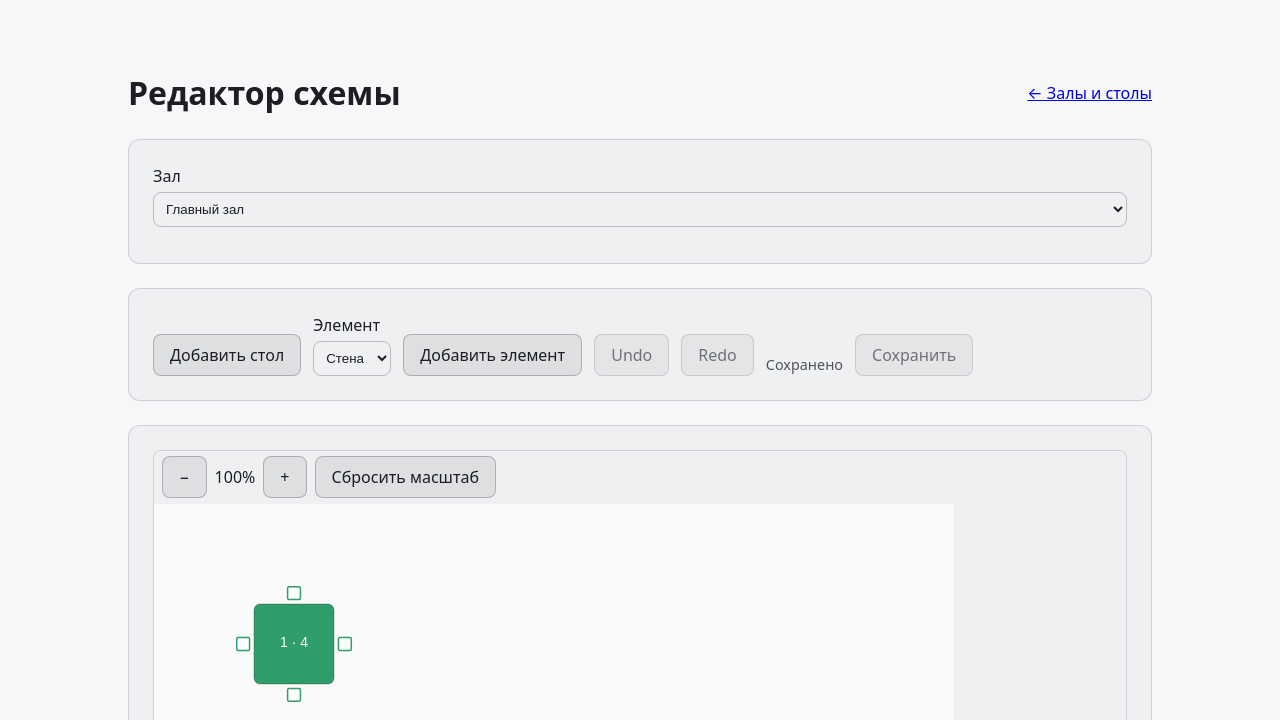
Test: HallEditorPage › supports undo/redo and clears redo after a new change
Expected: the text "Сохранено" is shown, [766,354,843,376]
Expected: the button with aria-label "Отменить" is disabled, [594,334,669,376]
What coordinates should you click on to do the following:
click the button "Добавить стол"
I would click on:
 (227, 355)
Its box is [153,334,301,376].
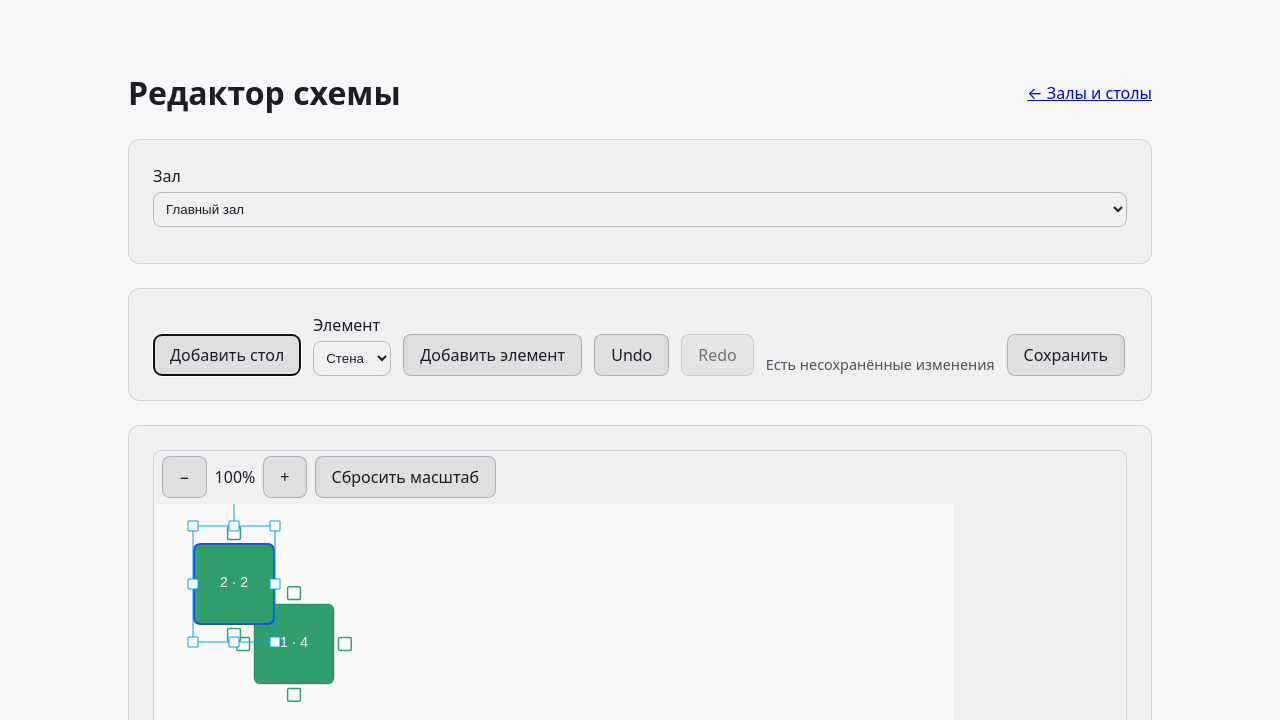
Expected: the button with aria-label "Отменить" is enabled
What coordinates should you click on to do the following:
click the button with aria-label "Отменить"
I would click on:
 (632, 355)
Its box is [594,334,669,376].
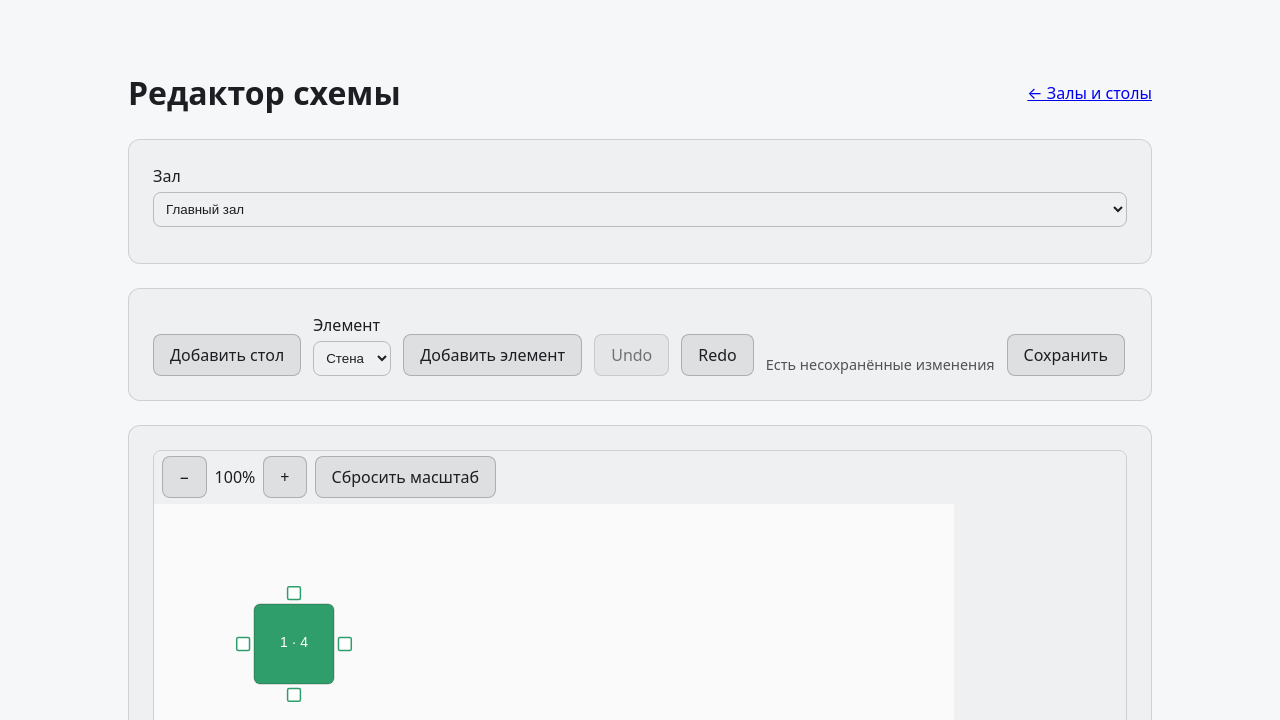
Expected: the button with aria-label "Повторить" is enabled
What coordinates should you click on to do the following:
click the button with aria-label "Повторить"
I would click on:
 (718, 355)
Its box is [681,334,754,376].
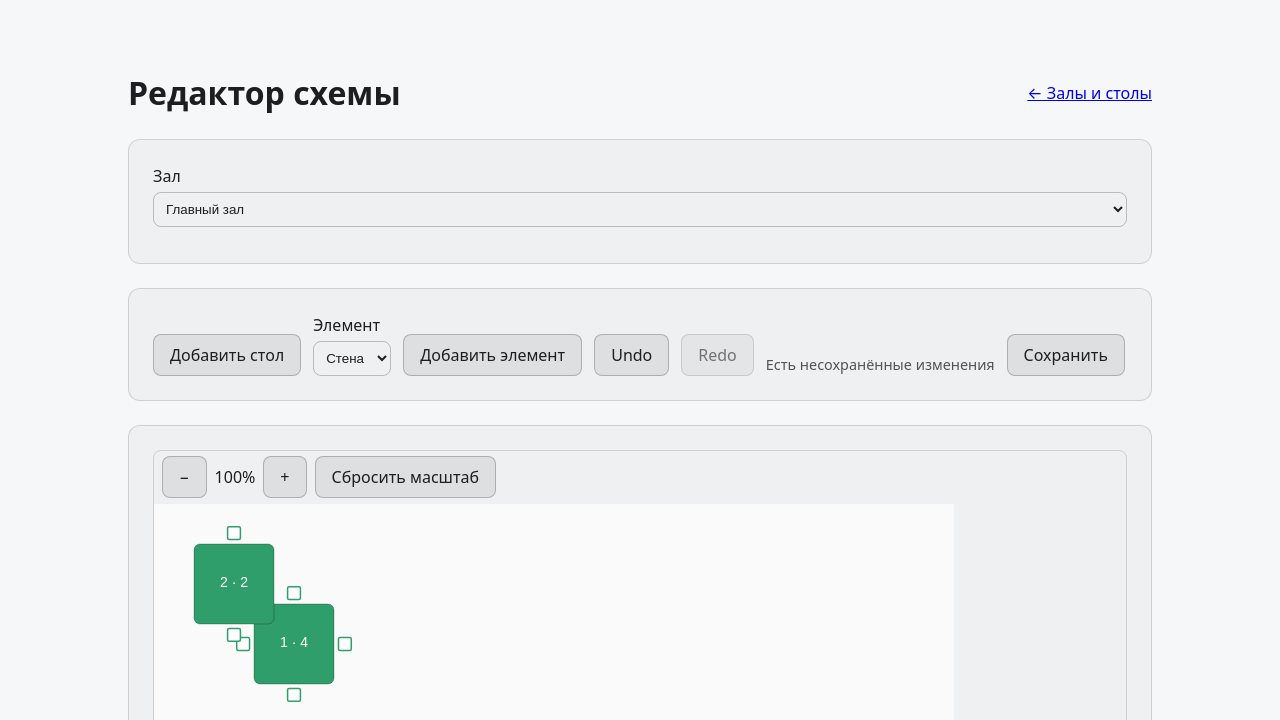
# New change after an undo wipes the redo stack.
What coordinates should you click on to do the following:
click the button with aria-label "Отменить"
I would click on:
 (632, 355)
Its box is [594,334,669,376].
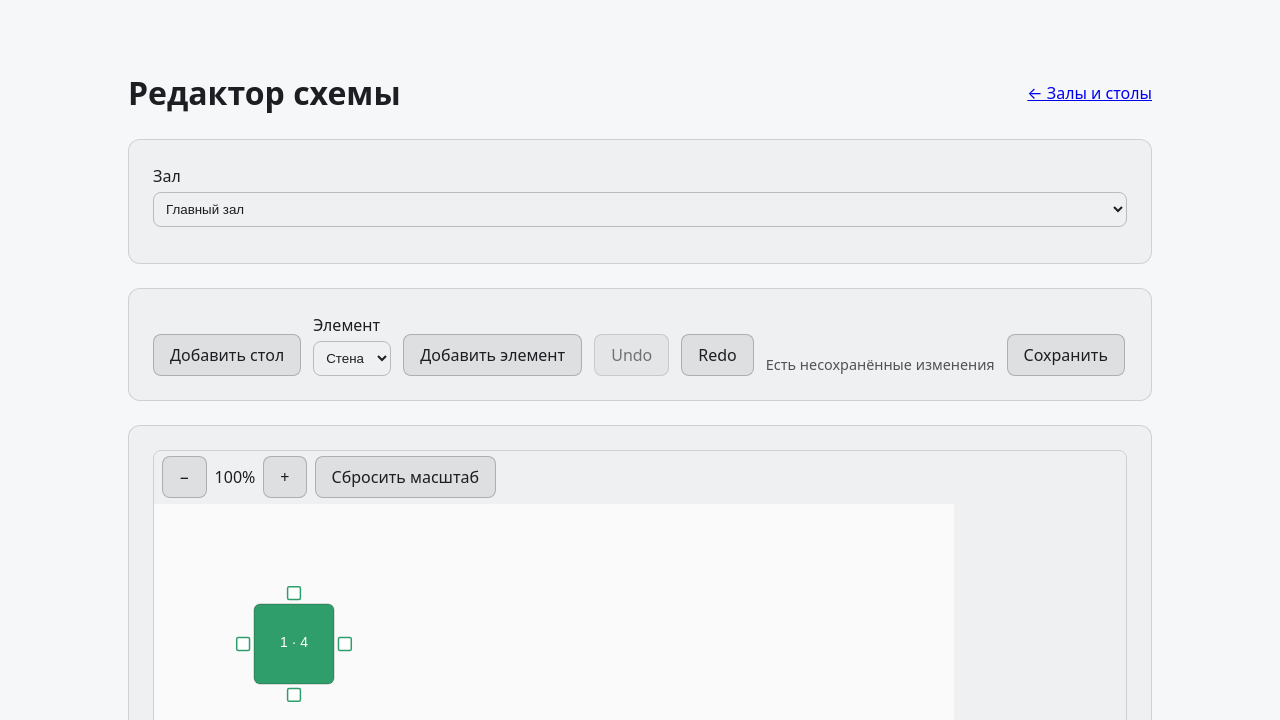
Expected: the button with aria-label "Повторить" is enabled, [681,334,754,376]
What coordinates should you click on to do the following:
click the button "Добавить элемент"
I would click on:
 (493, 355)
Its box is [403,334,582,376].
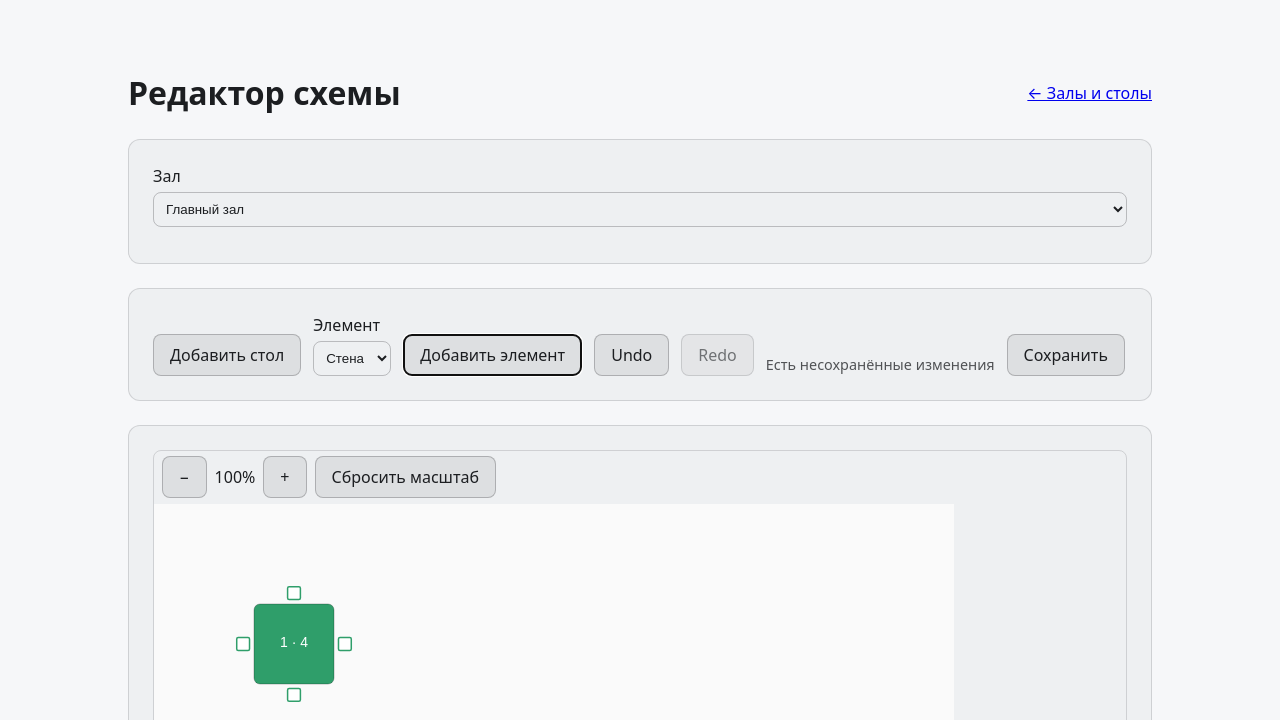
Expected: the button with aria-label "Повторить" is disabled, [681,334,754,376]
